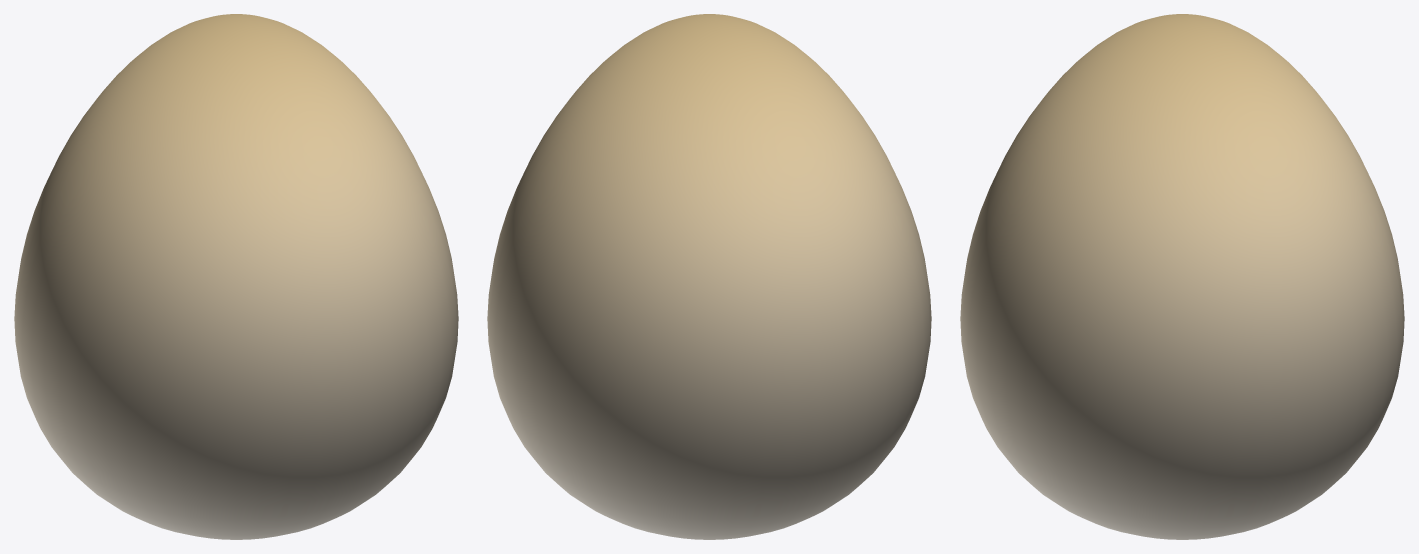
The model's file is pet-placeholder.glb.
3 renders of one model, left to right at view 1: azimuth 30°, elevation 25°; view 2: azimuth 150°, elevation 25°; view 3: azimuth 270°, elevation 25°, orthographic.
Parts seen in each view (by area): view 1: PetPlaceholder; view 2: PetPlaceholder; view 3: PetPlaceholder.
Part boxes in pixels (bbox=[...]): PetPlaceholder: bbox=[14, 14, 458, 539]; PetPlaceholder: bbox=[487, 14, 931, 539]; PetPlaceholder: bbox=[960, 14, 1404, 539].
Bounding box in the file's own units: 2.05 × 2.5 × 2.05.
